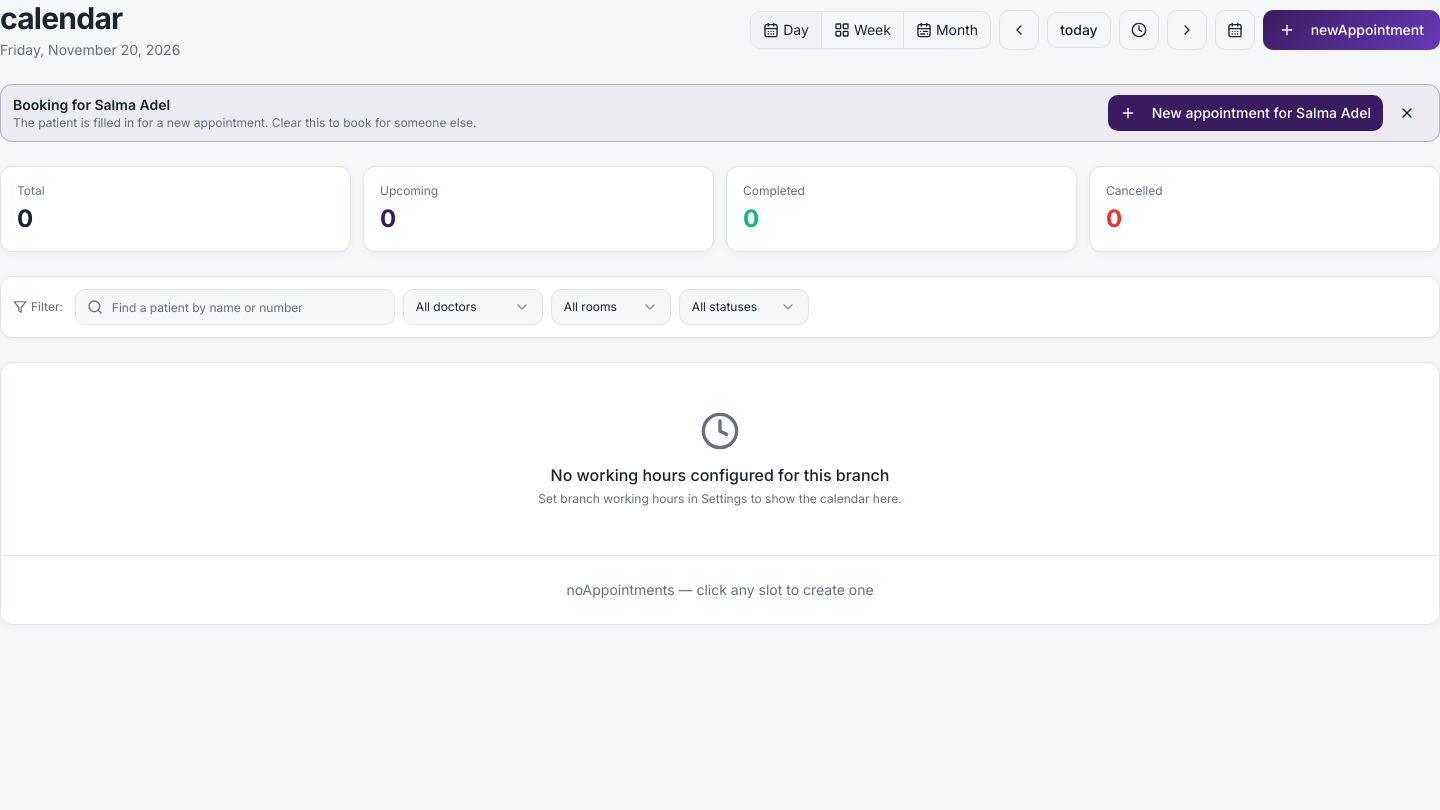
Test: CalendarPage ?patient_id= deep link › spends the link on the booking it was made for
Check: the button "today" is shown, box [1047, 12, 1111, 48]
What coordinates should you click on to do the following:
click the button "New appointment for Salma Adel"
I would click on:
 (1245, 113)
Its box is [1108, 95, 1383, 131].
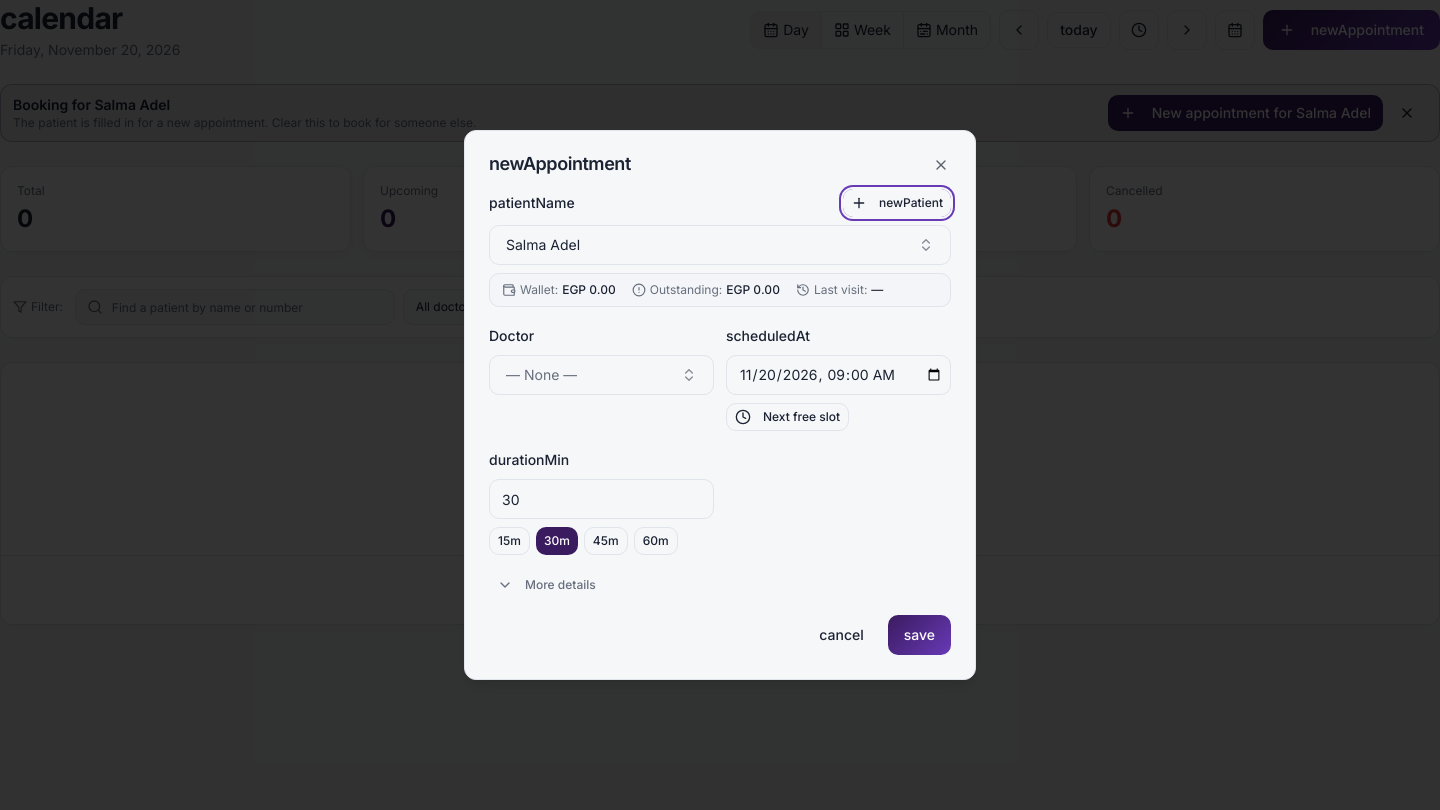
What coordinates should you click on to do the following:
click the button "save"
I would click on:
 (919, 635)
Its box is [888, 615, 951, 655].
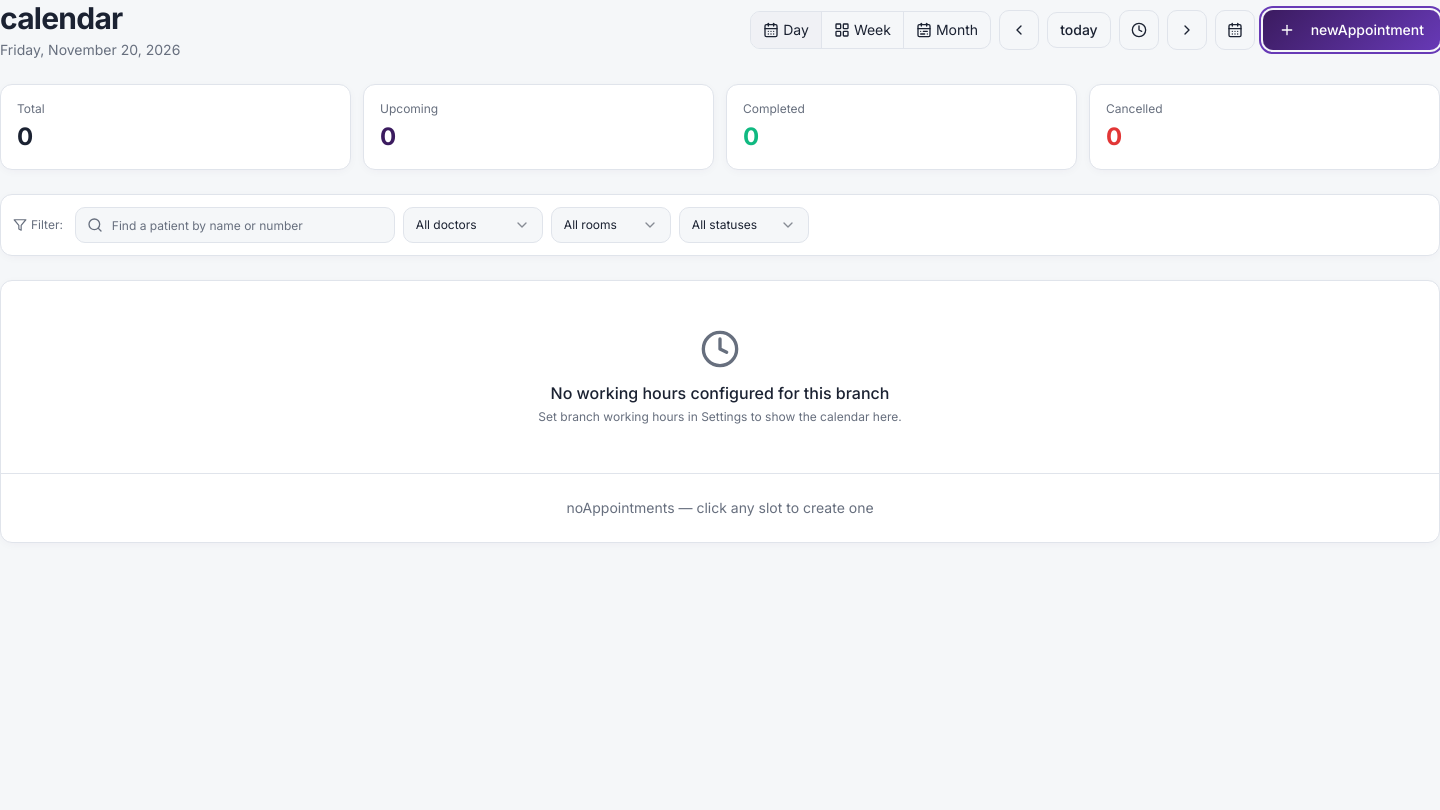
Check: the text "Booking for Salma Adel" is gone
